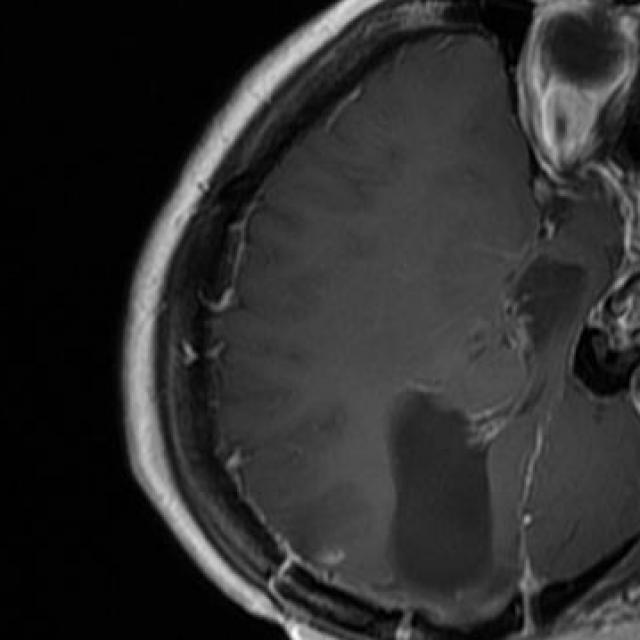glioma: (392, 255, 585, 590)
